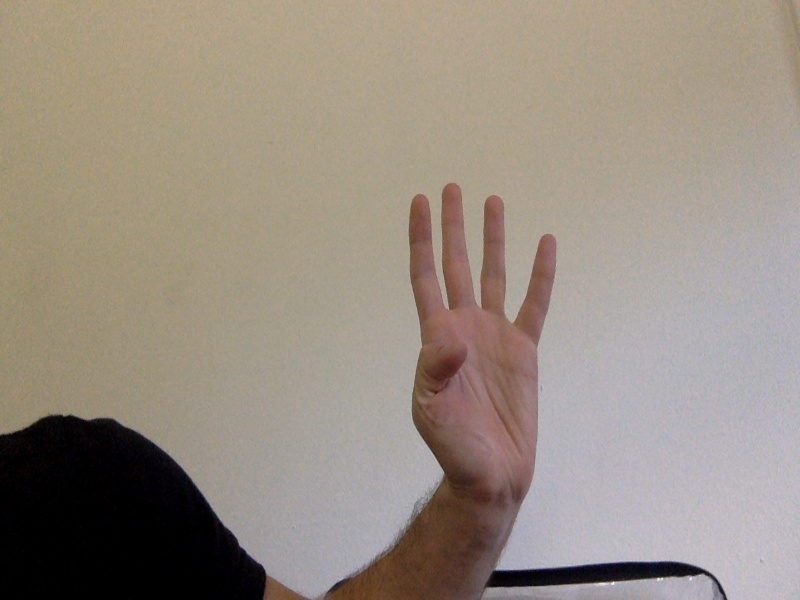4-hand: (409, 186, 557, 496)
